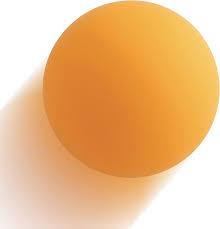oball: (43, 0, 220, 179)
